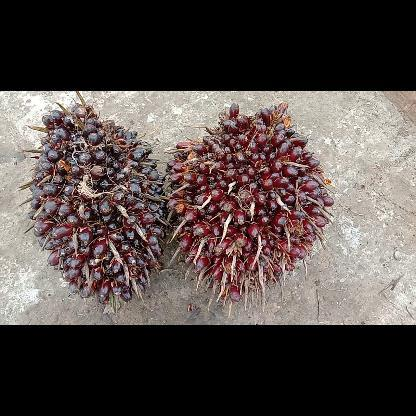Kurang masak: (26, 90, 166, 306)
TBS masak: (164, 100, 332, 302)
